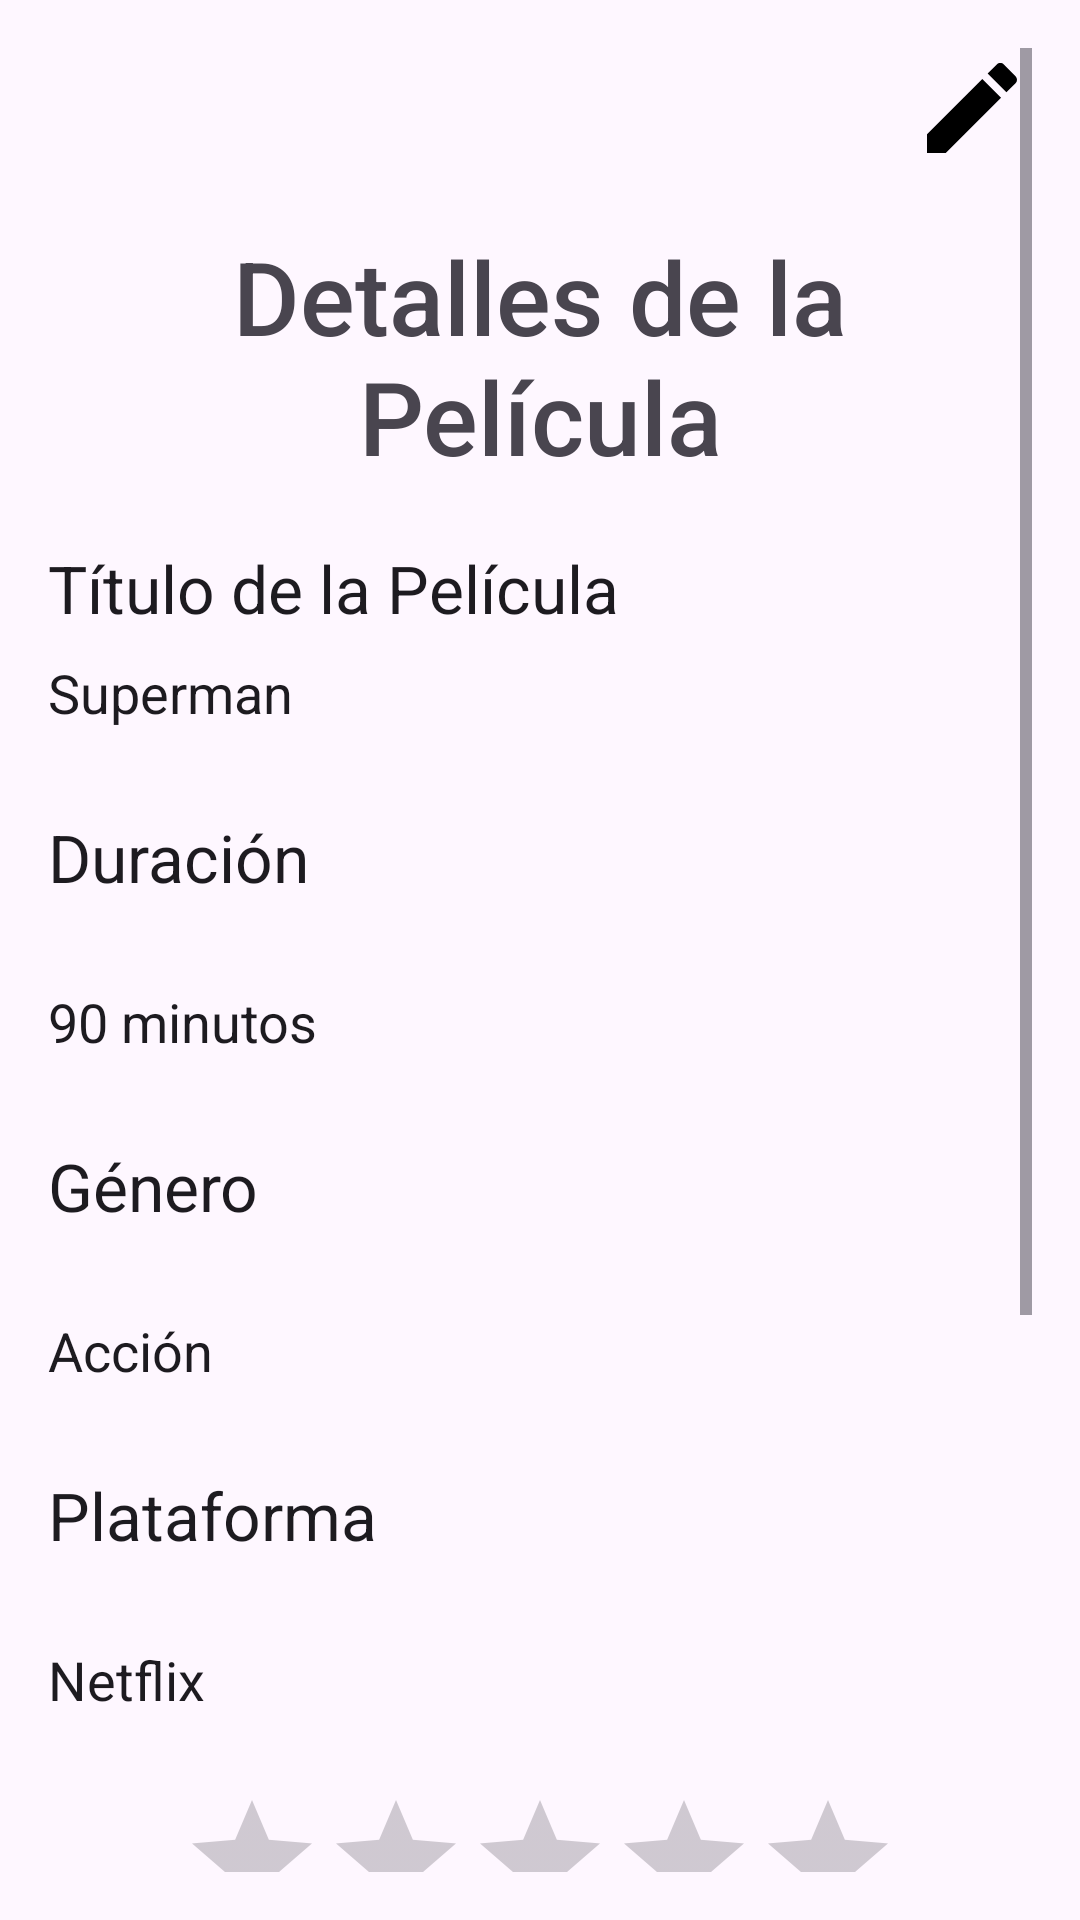

Screen size 1080 x 1920. Icon name, then its box in pixels as bbox(x1, y1, x2, y2):
edit: bbox(927, 63, 1017, 153)
